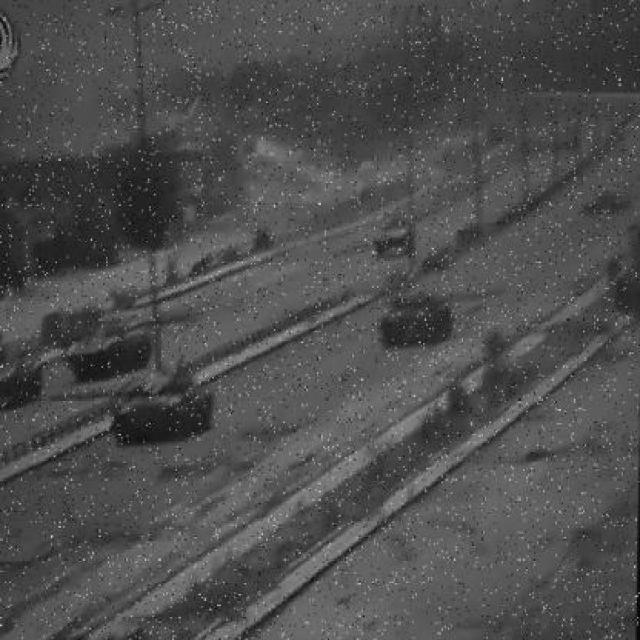Tank: (50, 362, 219, 453), (362, 273, 508, 361), (55, 307, 189, 387), (2, 330, 71, 421), (364, 201, 421, 270)
